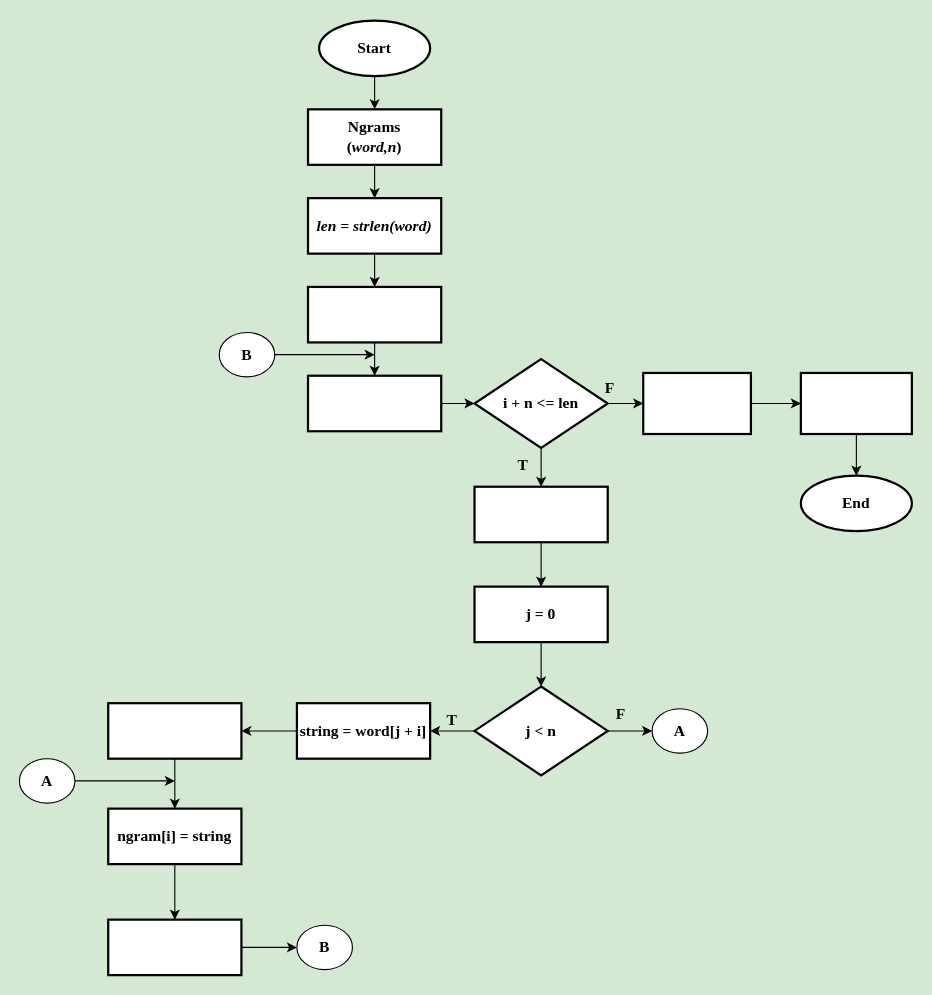
Some shapes in this 932 by 995 pixel diagram are drawn without their labels. Here are the shapes that lost their labels. From the top down, the box of each, then its label:
(306, 285, 442, 343): ngram = array()
(306, 374, 442, 432): i = 0
(642, 371, 751, 435): return ngram
(799, 371, 912, 435): Simpan ngram
(473, 485, 608, 543): string=""
(107, 702, 242, 759): j++
(107, 918, 242, 976): i++
